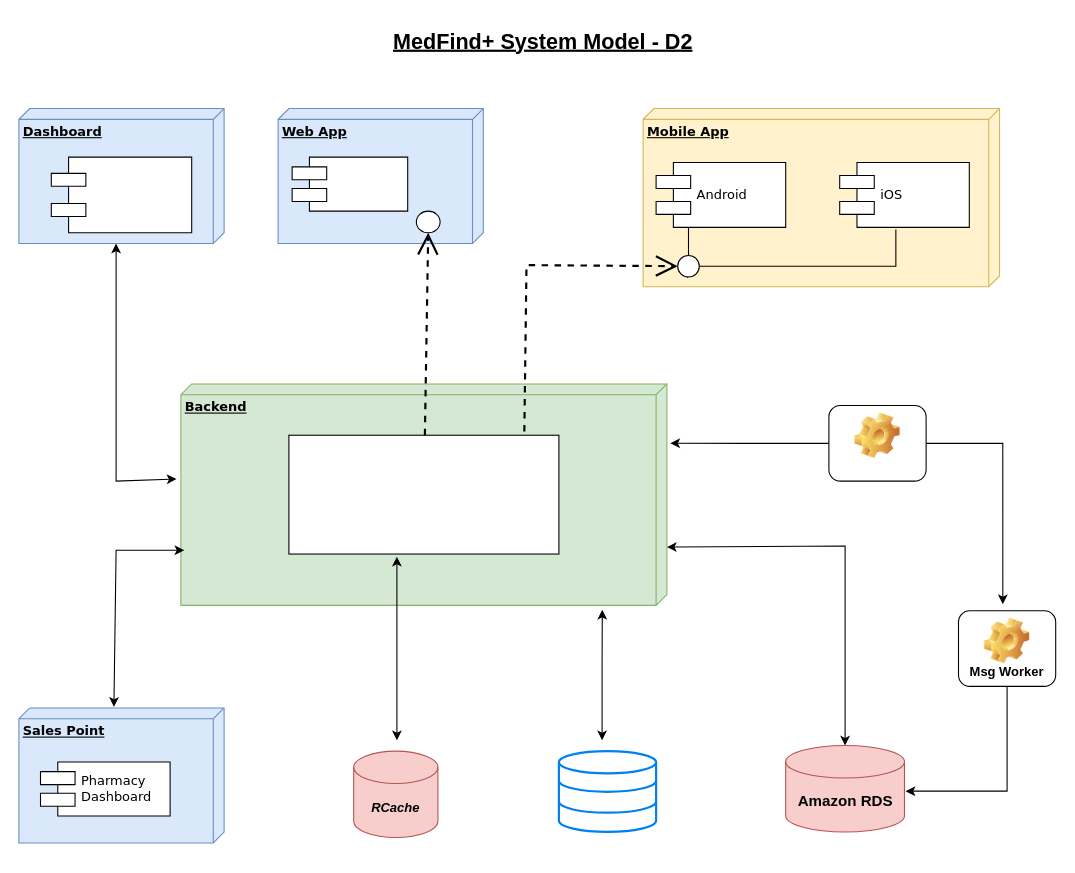
Image size: 1075x873. Some labels were removed from this diagram. Each missing label, with the box of its shape:
Admin & Channels Dashboard: (50, 156, 192, 233)
Image DB (S3): (557, 750, 657, 832)
Medfront: (291, 156, 408, 211)
Msg Queue: (828, 404, 926, 481)
«interface» API: (288, 434, 559, 554)
